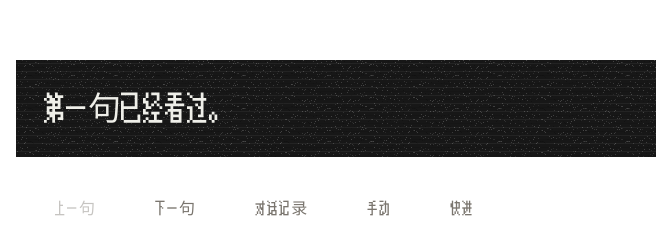
Test: dialogue reading controls › reviews an earlier sentence without rewinding live progress or resource state
The width and height of the screenshot is (656, 247).
Step 1. Click the button "下一句" → (162, 209), box [116,188,208,230]
Wait 80 ms
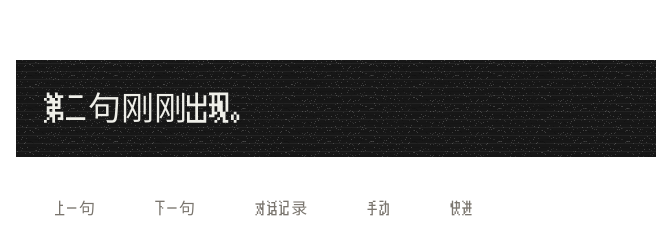
Step 2. Click the button "上一句" → (62, 209), box [16,188,108,230]
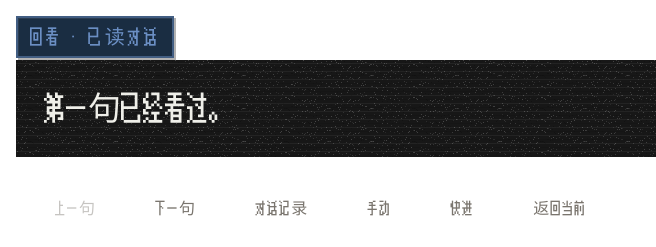
Result: the text "第一句已经看过。" is shown at [44,92,266,126]
Step 3. Click the button "返回当前" → (546, 209), box [494,188,598,230]
Wait 80 ms
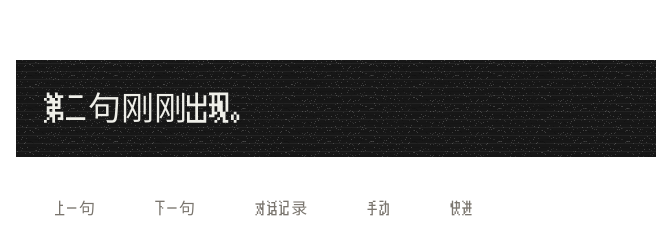
Result: the text "第二句刚刚出现。" is shown at [44,92,288,126]
